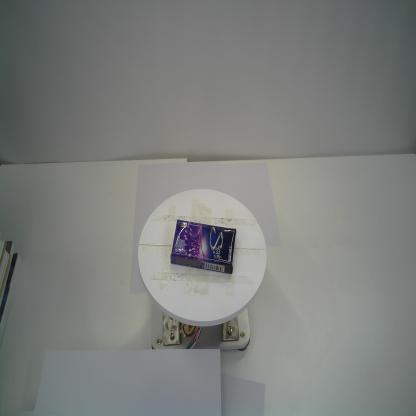Gum: (170, 219, 237, 275)
